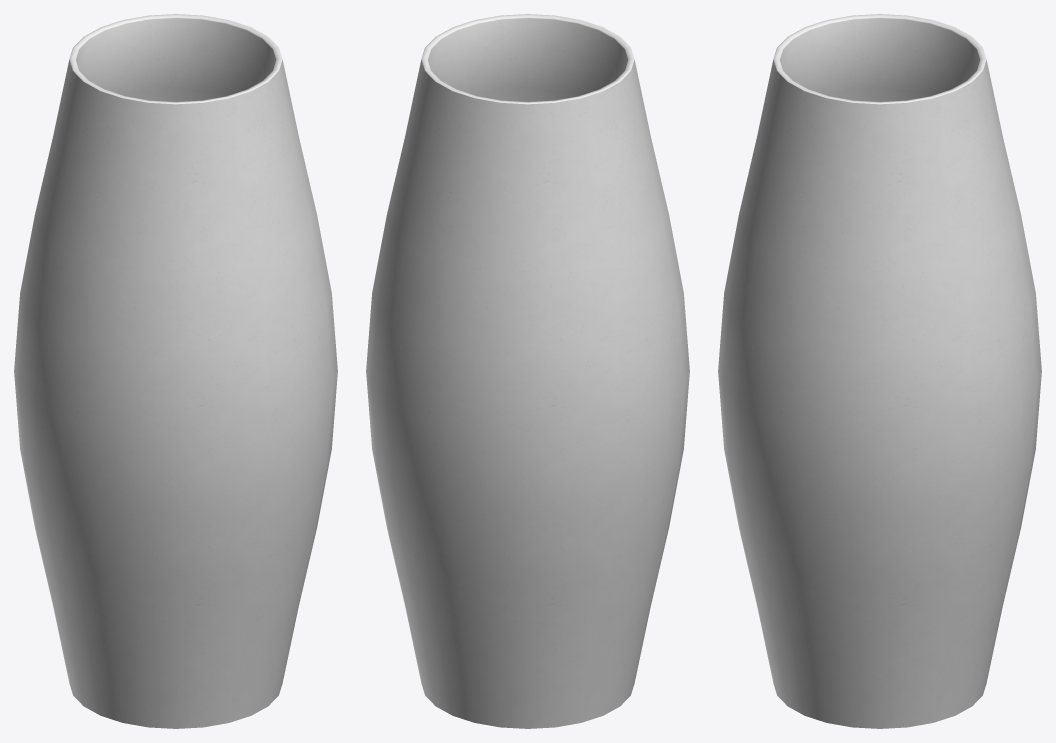
Rendered from VaseFloor02_1.FBX.
3 views of the same model, side by side, from view 1: azimuth 30°, elevation 25°; view 2: azimuth 150°, elevation 25°; view 3: azimuth 270°, elevation 25° (orthographic).
Parts seen in each view (by area): view 1: VaseFloor02_1; view 2: VaseFloor02_1; view 3: VaseFloor02_1.
Boxes of the visible parts, box(x1,y1,x2,y2) form: VaseFloor02_1: box(14, 14, 337, 728); VaseFloor02_1: box(366, 14, 689, 728); VaseFloor02_1: box(718, 14, 1041, 728).
Bounding box in the file's own units: 70.39 × 150 × 70.39.
